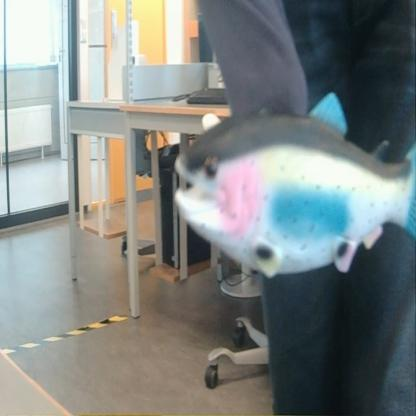rubberfish: (169, 87, 416, 286)
